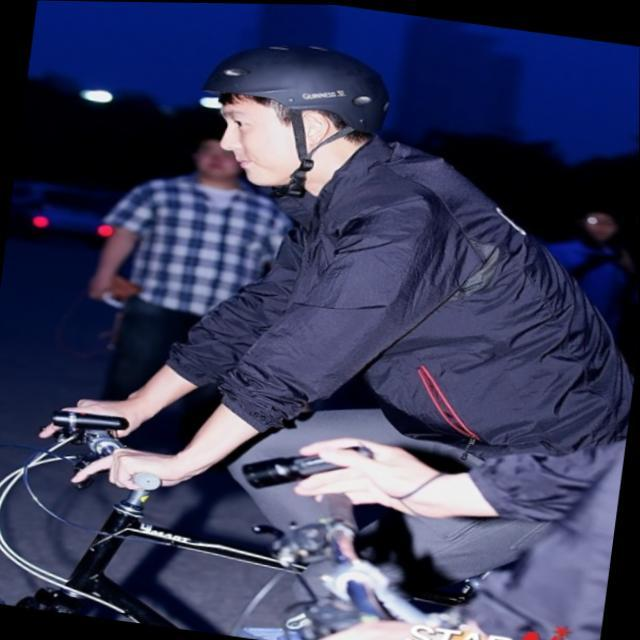Helmet: (202, 28, 387, 196)
